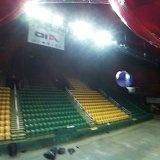Purple_Balloon: (116, 70, 132, 88)
